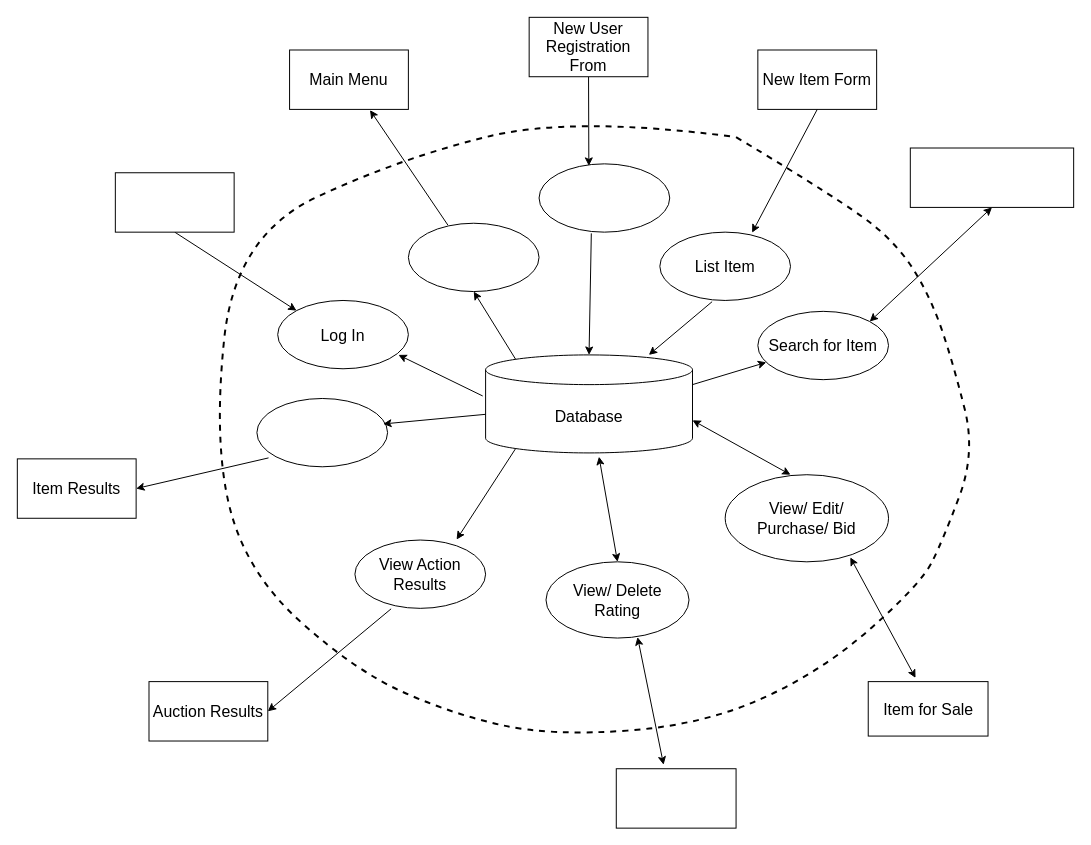
Image size: 1091x845. Some labels were removed from this diagram. The shapes that lost their labels are listed below. From the top down, each one's centre as x and y in pixels, then its label:
pixel 604 197: Register
pixel 991 177: Item Search and Results
pixel 174 202: Log In From
pixel 473 257: View Main Menu
pixel 322 432: View Item Results
pixel 675 798: Item Rating
